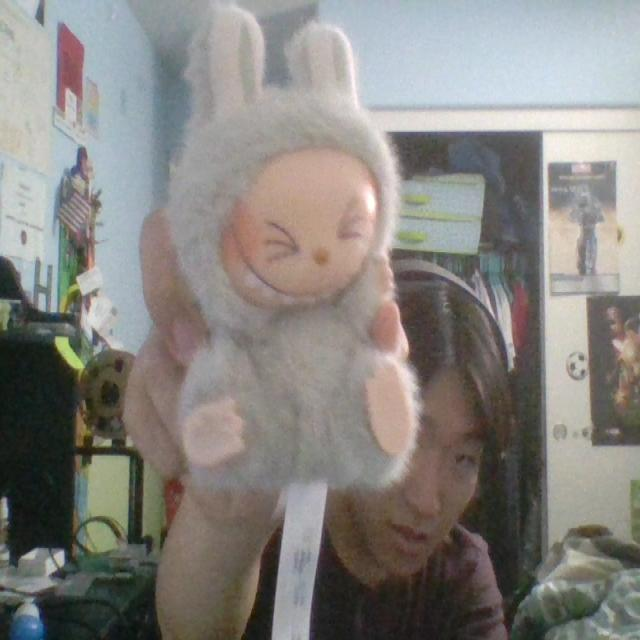labubu: (166, 9, 419, 489)
